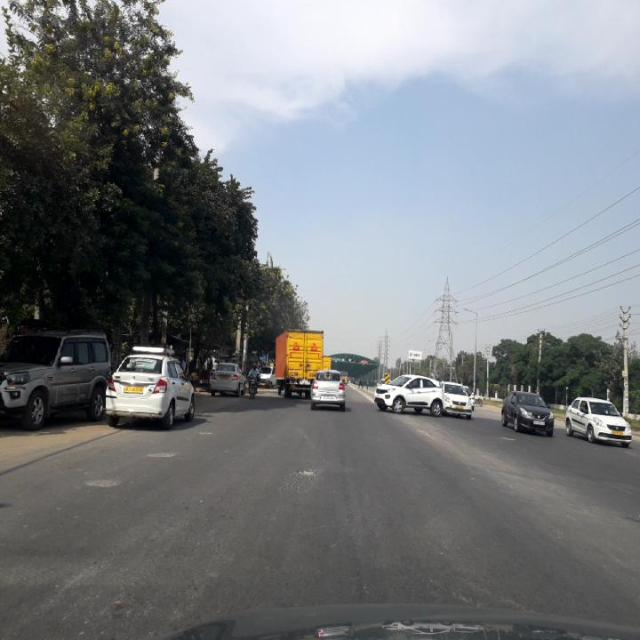D40: (292, 463, 318, 482)
